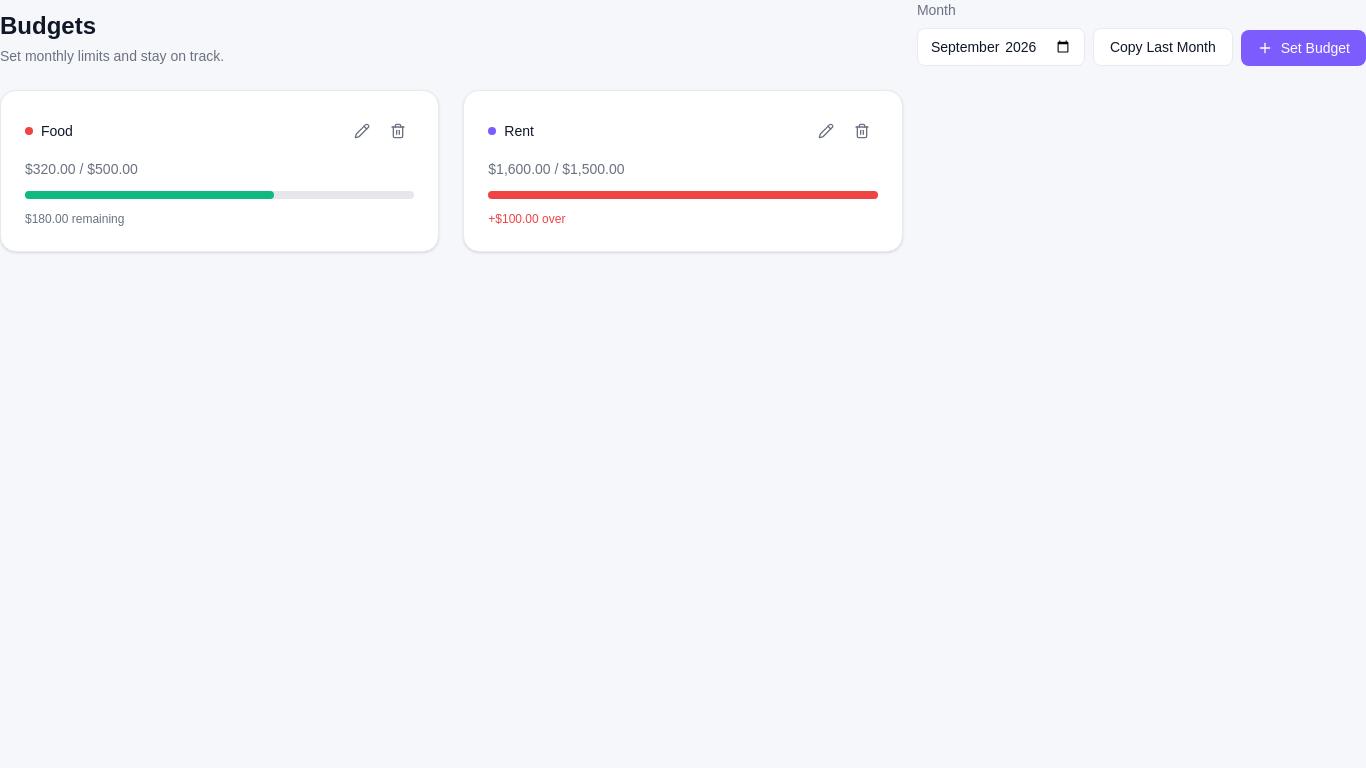
Test: BudgetsView › opens the set form from the header button
The width and height of the screenshot is (1366, 768).
Click the button "Set Budget". click: click(1303, 48)
box: [1241, 30, 1365, 66]
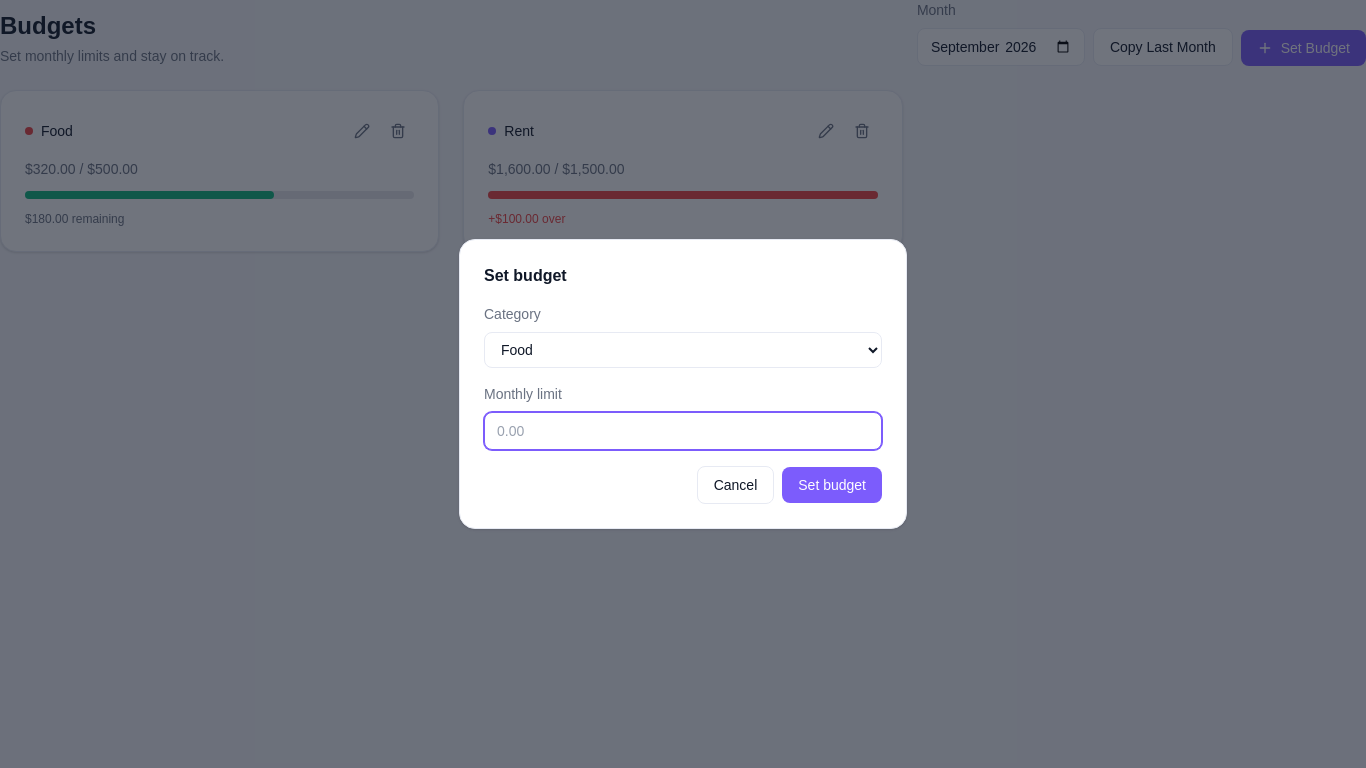
Expected: the dialog "Set budget" is shown, [459, 239, 907, 529]
